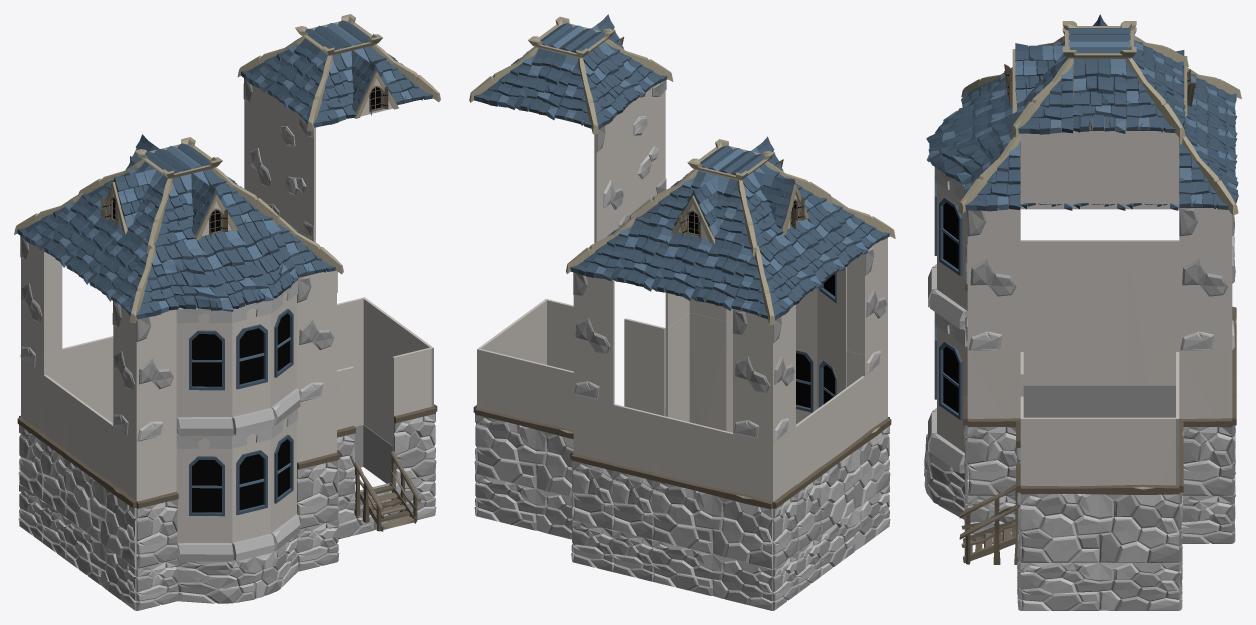
The model's file is HOUSE_5_PARTS.fbx.
The picture shows the model from 3 angles, left to right: view 1: azimuth 30°, elevation 25°; view 2: azimuth 150°, elevation 25°; view 3: azimuth 270°, elevation 25°; orthographic projection. The views are drawn at different scales.
Parts seen in each view (by area): view 1: BALKON_02_3, BALKON_02_2, ROOF_base_round_2, WALL_01_6, WALL_05_2, WALL_04_31, WALL_04_39, WALL_03_4, FOUNDATION_02_3, WALL_03_2, WALL_04_23, WALL_01_9 (+34 smaller); view 2: WALL_01_7, WALL_01_8, WALL_01_6, WALL_05_2, WALL_04_42, WALL_03_8, FOUNDATION_01_5, WALL_03_7, WALL_04_41, BALKON_02_2, WALL_04_23, FOUNDATION_01_4 (+38 smaller); view 3: WALL_01_9, WALL_01_6, WALL_05_2, WALL_04_30, FOUNDATION_01_3, WALL_03_3, WALL_03_9, WALL_04_26, WALL_04_22, ROOF_base_round_2, BALKON_02_3, BALKON_02_2 (+25 smaller).
Part boxes in pixels (x1,y1,x2,y2): BALKON_02_3: (176,280,300,435); BALKON_02_2: (176,408,300,561); ROOF_base_round_2: (155,218,298,311); WALL_01_6: (63,392,138,568); WALL_05_2: (243,78,315,242); WALL_04_31: (135,433,178,568); WALL_04_39: (392,347,435,482); WALL_03_4: (136,309,176,442); FOUNDATION_02_3: (176,534,298,603); WALL_03_2: (297,270,336,402); WALL_04_23: (297,395,338,528); WALL_01_9: (362,297,437,472); WALL_01_7: (651,414,774,568); WALL_01_8: (475,349,573,497); WALL_01_6: (817,360,891,534); WALL_05_2: (594,80,666,242); WALL_04_42: (611,404,654,539); WALL_03_8: (573,272,614,404); FOUNDATION_01_5: (652,540,773,610); WALL_03_7: (733,309,772,443); WALL_04_41: (571,396,613,529); BALKON_02_2: (726,322,846,432); WALL_04_23: (689,312,726,430); FOUNDATION_01_4: (475,474,572,539); WALL_01_9: (1020,417,1179,562); WALL_01_6: (1020,240,1126,385); WALL_05_2: (1020,131,1179,209); WALL_04_30: (1126,240,1179,385); FOUNDATION_01_3: (1020,562,1179,610); WALL_03_3: (967,208,1020,351); WALL_03_9: (1179,208,1232,351); WALL_04_26: (1179,352,1232,495); WALL_04_22: (967,352,1020,495); ROOF_base_round_2: (926,72,1017,184); BALKON_02_3: (928,167,967,329); BALKON_02_2: (928,312,967,473).
Bounding box in the file's own units: 837 × 1127 × 601.
